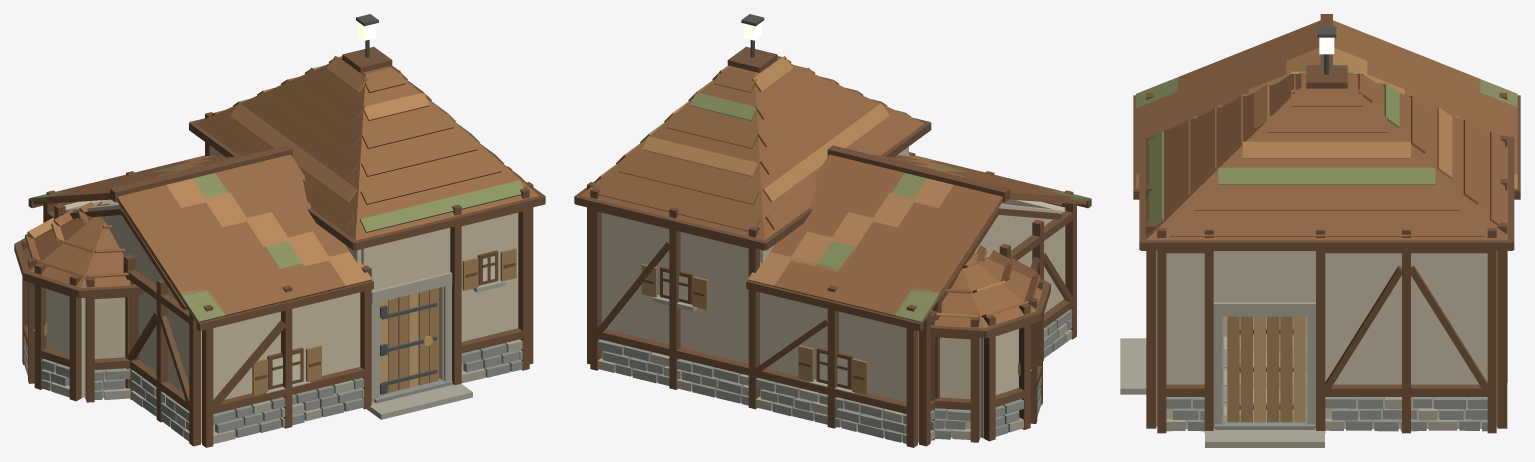
The model's file is holm_mine_gatehouse_v1.glb.
The picture shows the model from 3 angles, left to right: view 1: azimuth 30°, elevation 25°; view 2: azimuth 150°, elevation 25°; view 3: azimuth 270°, elevation 25°; orthographic projection. The views are drawn at different scales.
Parts seen in each view (by area): view 1: Roof_Workyard_Shingle_Umber, Static_Workyard_Oak_Dark, Static_Workyard_Warm_Limewash, Roof_Workyard_Oak_Dark, Roof_Workyard_Shingle_Sun, Static_Workyard_Fieldstone, Static_Workyard_Fieldstone_Light, Roof_Workyard_Shingle_Moss, gate_door_Workyard_Oak_Worn, Static_Workyard_Oak_Worn, Roof_Workyard_Warm_Limewash, gate_door_Workyard_Fresh_Cut (+2 smaller); view 2: Roof_Workyard_Shingle_Umber, Static_Workyard_Warm_Limewash, Static_Workyard_Oak_Dark, Roof_Workyard_Oak_Dark, Roof_Workyard_Shingle_Sun, Static_Workyard_Fieldstone, Roof_Workyard_Shingle_Moss, Static_Workyard_Fieldstone_Light, Static_Workyard_Oak_Worn, Roof_Workyard_Warm_Limewash, Static_Workyard_Chalk; view 3: Roof_Workyard_Shingle_Umber, Static_Workyard_Warm_Limewash, Static_Workyard_Oak_Dark, Static_Workyard_Fieldstone_Light, Roof_Workyard_Oak_Dark, Roof_Workyard_Shingle_Moss, Roof_Workyard_Shingle_Sun, Static_Workyard_Fieldstone, road_door_Workyard_Oak_Worn, road_door_Workyard_Fresh_Cut, Static_Gate_Cobble, Static_Gate_Cobble_Light.
Part boxes in pixels (<box>): Roof_Workyard_Shingle_Umber: <box>21,56,538,322</box>; Static_Workyard_Oak_Dark: <box>22,112,533,447</box>; Static_Workyard_Warm_Limewash: <box>46,146,518,442</box>; Roof_Workyard_Oak_Dark: <box>14,47,545,331</box>; Roof_Workyard_Shingle_Sun: <box>27,56,455,286</box>; Static_Workyard_Fieldstone: <box>24,336,522,437</box>; Static_Workyard_Fieldstone_Light: <box>26,272,522,443</box>; Roof_Workyard_Shingle_Moss: <box>30,65,523,322</box>; gate_door_Workyard_Oak_Worn: <box>388,288,438,392</box>; Static_Workyard_Oak_Worn: <box>252,248,516,394</box>; Roof_Workyard_Warm_Limewash: <box>65,204,175,298</box>; gate_door_Workyard_Fresh_Cut: <box>380,292,418,394</box>; Roof_Workyard_Shingle_Umber: <box>581,56,1086,328</box>; Static_Workyard_Warm_Limewash: <box>601,146,1065,442</box>; Static_Workyard_Oak_Dark: <box>587,152,1076,447</box>; Roof_Workyard_Oak_Dark: <box>574,46,1091,338</box>; Roof_Workyard_Shingle_Sun: <box>642,55,1005,317</box>; Static_Workyard_Fieldstone: <box>597,309,1072,443</box>; Roof_Workyard_Shingle_Moss: <box>640,92,1089,322</box>; Static_Workyard_Fieldstone_Light: <box>597,295,1072,440</box>; Static_Workyard_Oak_Worn: <box>641,264,867,394</box>; Roof_Workyard_Warm_Limewash: <box>974,204,1063,257</box>; Static_Workyard_Chalk: <box>663,272,847,385</box>; Roof_Workyard_Shingle_Umber: <box>1136,20,1517,240</box>; Static_Workyard_Warm_Limewash: <box>1156,251,1497,428</box>; Static_Workyard_Oak_Dark: <box>1146,93,1507,433</box>; Static_Workyard_Fieldstone_Light: <box>1120,302,1457,447</box>; Roof_Workyard_Oak_Dark: <box>1133,14,1520,250</box>; Roof_Workyard_Shingle_Moss: <box>1136,62,1517,225</box>; Roof_Workyard_Shingle_Sun: <box>1136,48,1517,190</box>; Static_Workyard_Fieldstone: <box>1166,397,1487,431</box>; road_door_Workyard_Oak_Worn: <box>1227,316,1292,422</box>; road_door_Workyard_Fresh_Cut: <box>1254,316,1305,422</box>; Static_Gate_Cobble: <box>1223,335,1306,415</box>; Static_Gate_Cobble_Light: <box>1223,336,1306,415</box>.
Bounding box in the file's own units: 13.5 × 9.52 × 9.69.
